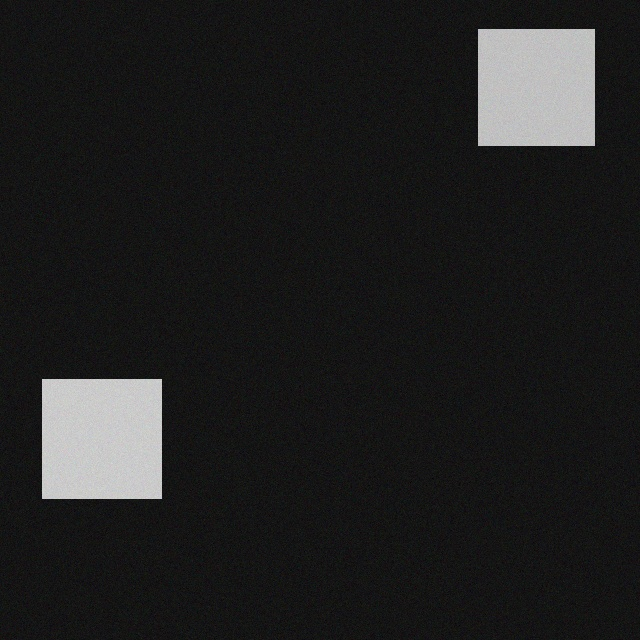square: (37, 367, 156, 486), (473, 17, 589, 133)
